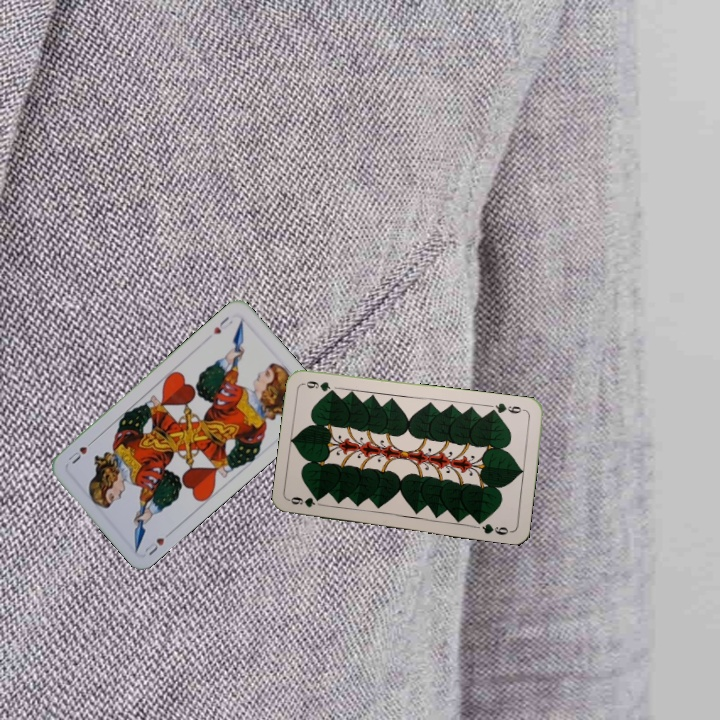G9: (487, 399, 528, 416), (287, 493, 318, 510)
HU: (141, 527, 175, 558), (209, 312, 235, 337)
